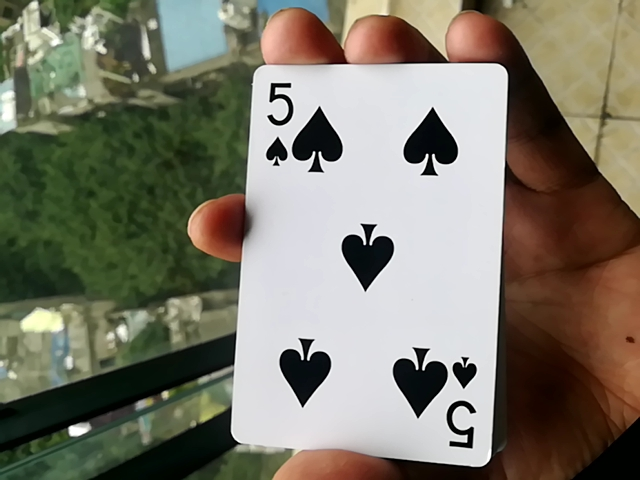ht 5: (223, 58, 504, 469)
